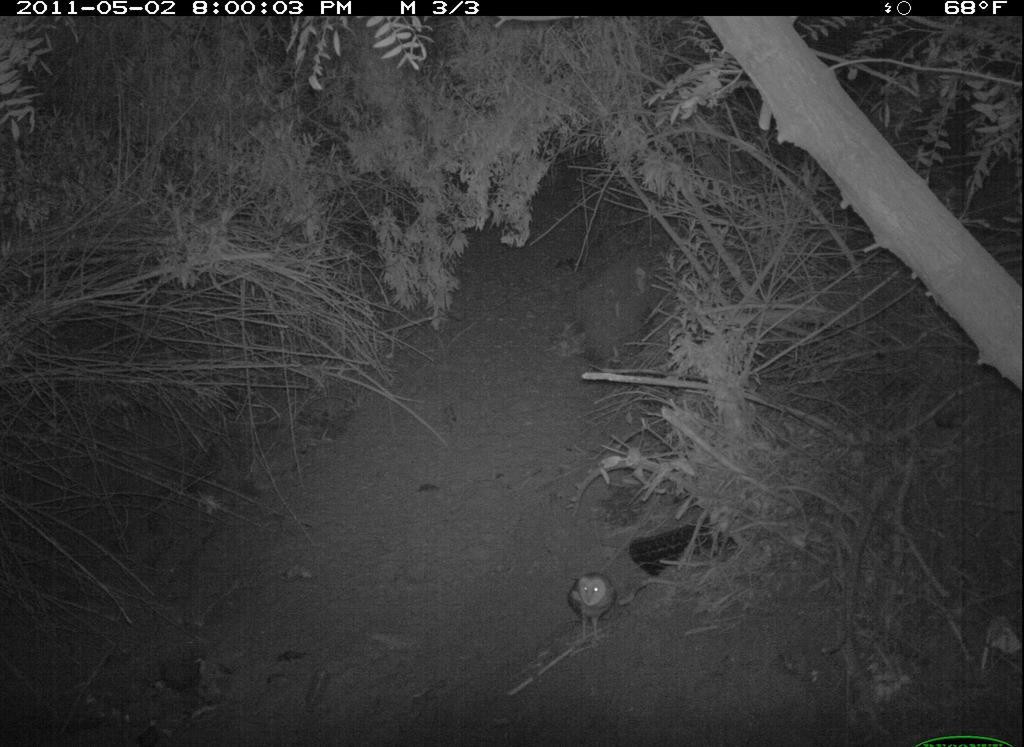bird: (562, 566, 625, 643)
